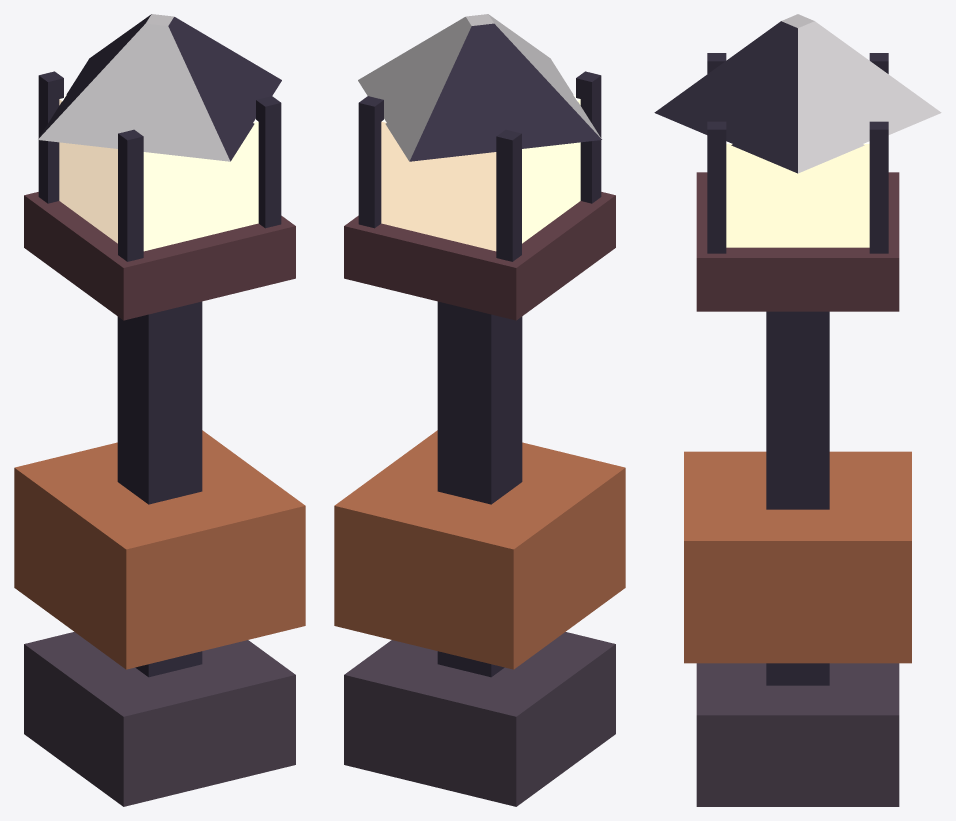
The model's file is survey-beacon.glb.
3 renders of one model, left to right at view 1: azimuth 30°, elevation 25°; view 2: azimuth 150°, elevation 25°; view 3: azimuth 270°, elevation 25°, orthographic.
Parts seen in each view (by area): view 1: survey-beacon; view 2: survey-beacon; view 3: survey-beacon.
Boxes of the visible parts, x1,y1,x2,y2 form: survey-beacon: (14, 14, 305, 806); survey-beacon: (334, 14, 625, 806); survey-beacon: (654, 14, 941, 806).
Size of the model in its own units: 0.6816 by 1.94 by 0.6816.
